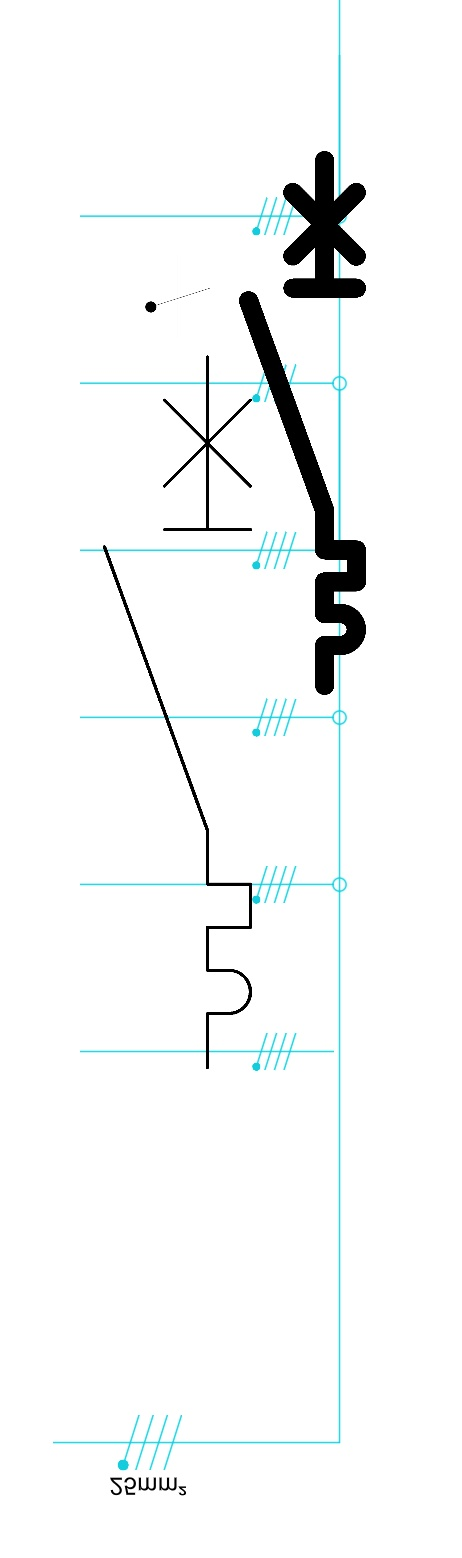interruptor_termomagnetico: (86, 338, 269, 1085), (235, 147, 370, 699)
